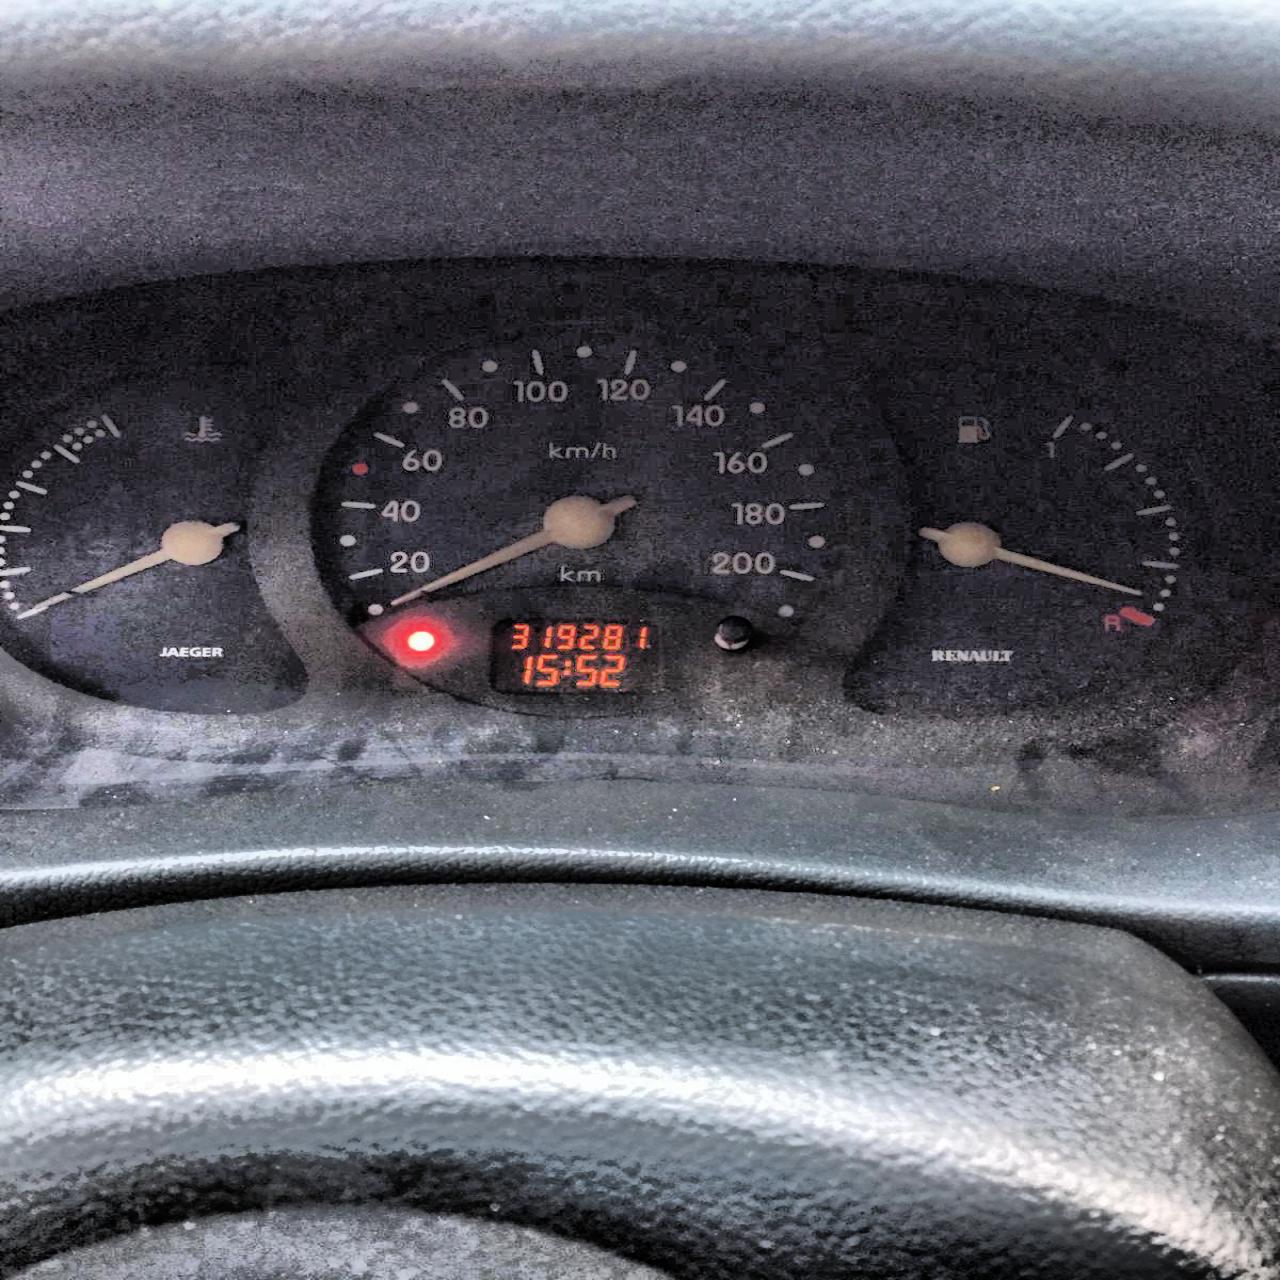1: (523, 655, 533, 683), (636, 626, 646, 648), (543, 626, 551, 648)
2: (598, 654, 624, 685), (578, 625, 599, 649)
3: (510, 624, 527, 648)
5: (536, 654, 558, 685), (574, 654, 597, 685)
8: (601, 625, 621, 649)
9: (556, 624, 576, 649)
X: (563, 659, 571, 675)
odometer: (486, 614, 662, 696)
